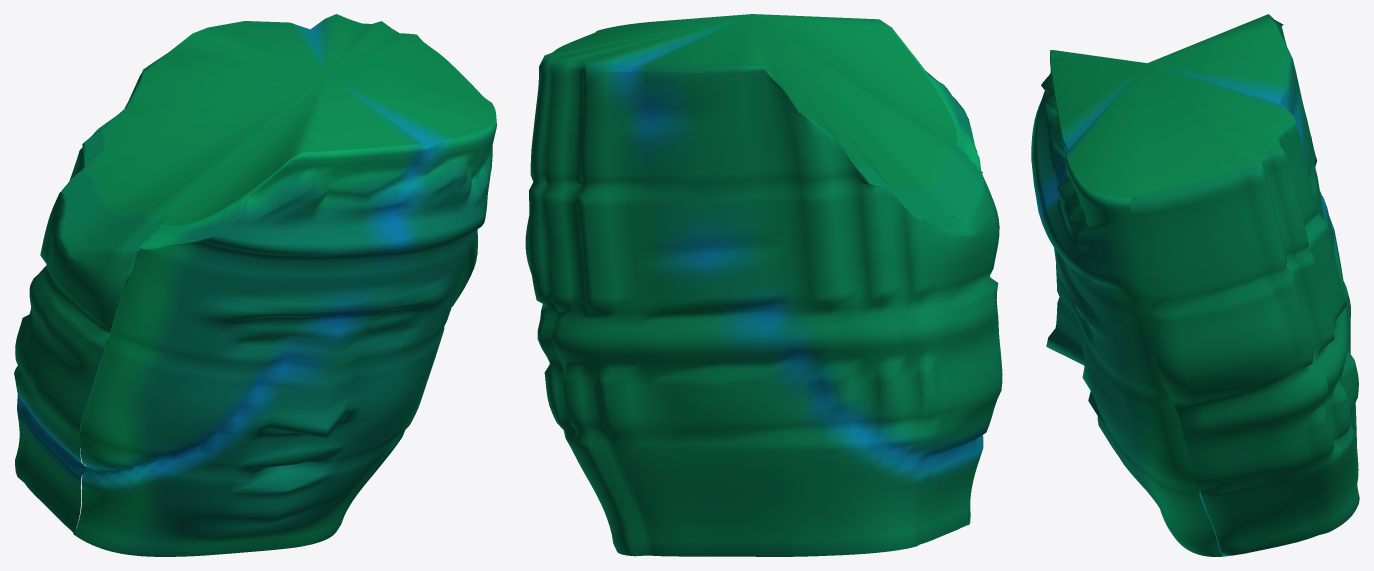
File: watcher_head_cracked.glb
3 renders of one model, left to right at view 1: azimuth 30°, elevation 25°; view 2: azimuth 150°, elevation 25°; view 3: azimuth 270°, elevation 25°, orthographic. The views are drawn at different scales.
Parts seen in each view (by area): view 1: watcher_head_cracked; view 2: watcher_head_cracked; view 3: watcher_head_cracked.
Boxes of the visible parts, bbox=[...] form: watcher_head_cracked: bbox=[14, 14, 496, 556]; watcher_head_cracked: bbox=[525, 14, 1002, 556]; watcher_head_cracked: bbox=[1031, 14, 1359, 556].
Size of what is drawn, in the model's own units: 2.37 by 2.71 by 1.65.
